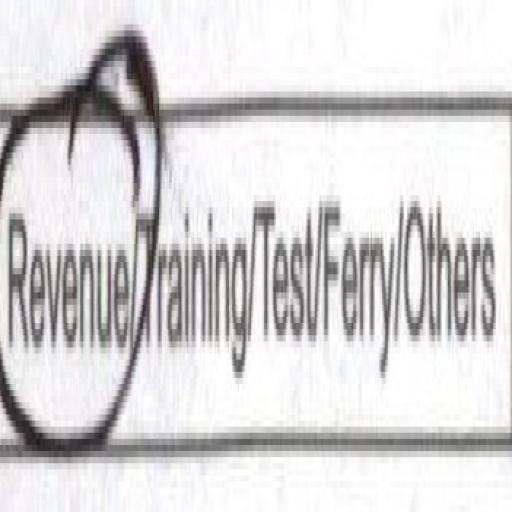check: (2, 9, 134, 471)
